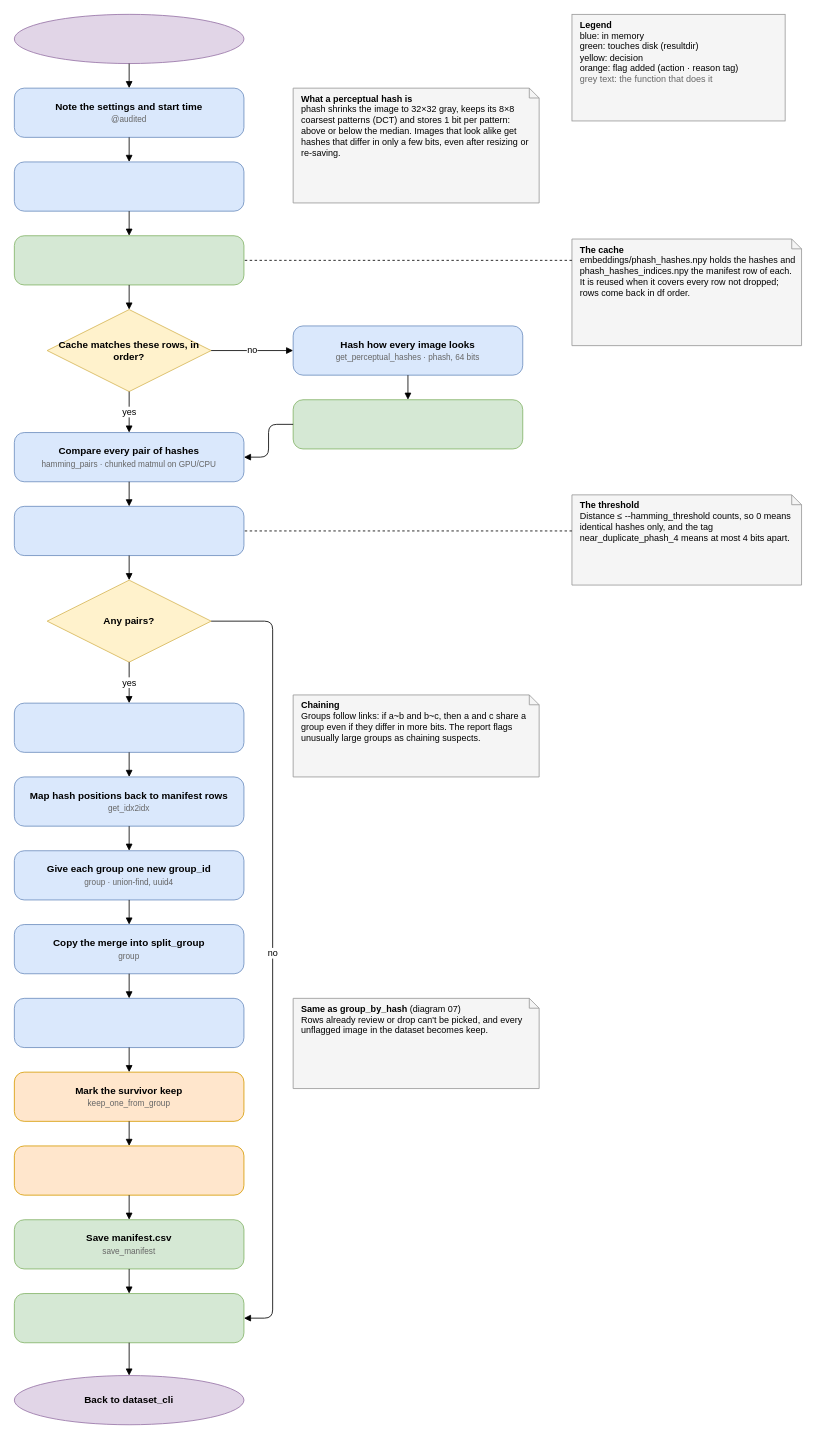
Image size: 816x1439. Some labels were removed from this diagram. The box of each missing label's shape, as (x1, y1, x2, y2) in pixels:
group_by_perceptual_hash(dataset, …) --group_perceptual_hash, from dataset_cli: (14, 14, 244, 64)
Join chained pairs into groups merge_pairs · a~b and b~c → {a, b, c}: (14, 702, 244, 752)
Keep pairs that differ in at most threshold bits --hamming_threshold (inclusive): (14, 506, 244, 556)
Load the cached hashes load_perceptual_hashes · embeddings/: (14, 235, 244, 285)
Log the run in audits.json @audited: pairs_found, groups_found, images_in_groups: (14, 1293, 244, 1343)
Mark the others drop · near_duplicate_phash_<threshold> keep_one_from_group: (14, 1145, 244, 1195)
Pick one survivor per group _select_one_per_group · random, --group_keep_seed: (14, 998, 244, 1048)
Save the hashes and their row ids save_perceptual_hashes · embeddings/: (292, 399, 523, 449)
Take the rows not dropped yet dataset.df: (14, 161, 244, 211)
